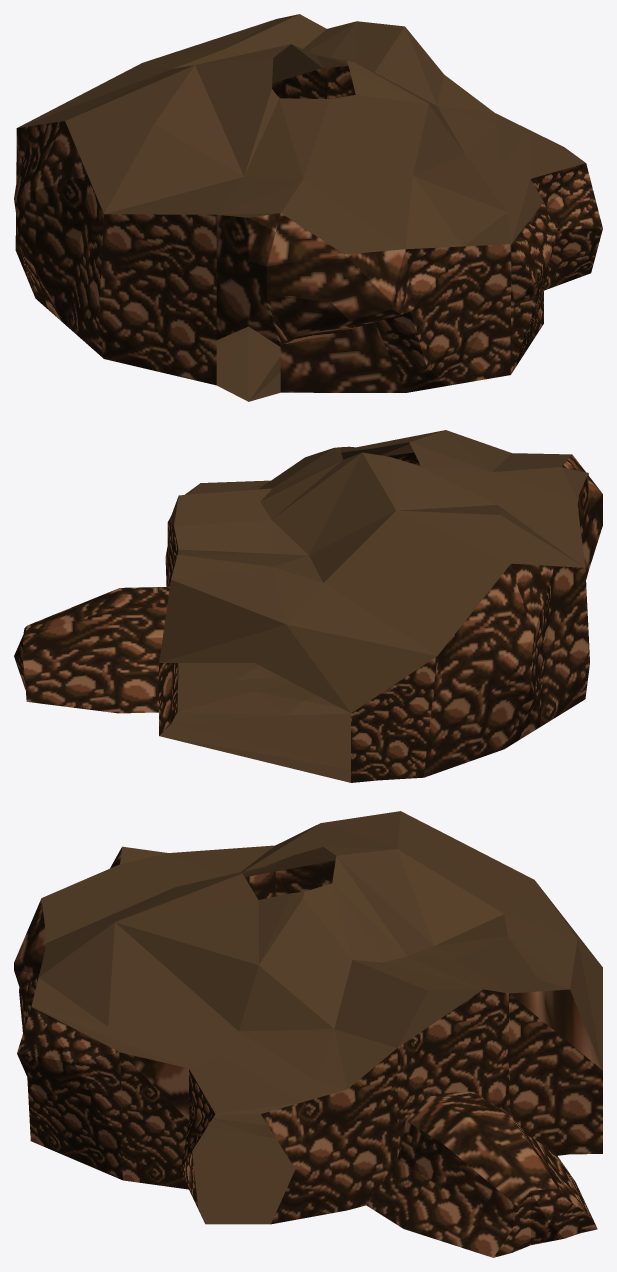
File: Modelo Corteza Baja 2.fbx
3 renders of one model, top to bottom at view 1: azimuth 30°, elevation 25°; view 2: azimuth 150°, elevation 25°; view 3: azimuth 270°, elevation 25°, orthographic. The views are drawn at different scales.
Visible parts, largest first — view 1: Corteza Baja 2; view 2: Corteza Baja 2; view 3: Corteza Baja 2.
Boxes of the visible parts, x1,y1,x2,y2 form: Corteza Baja 2: [14, 14, 602, 401]; Corteza Baja 2: [14, 430, 602, 782]; Corteza Baja 2: [14, 811, 602, 1257].
Size of the model in its own units: 29985 by 27905 by 13970.
Materials: 2 (1 with a texture image).
